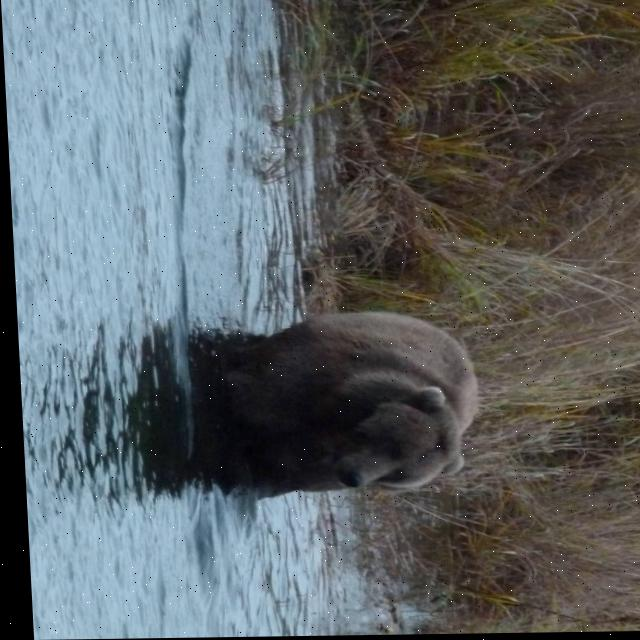bear face: (252, 310, 477, 491)
